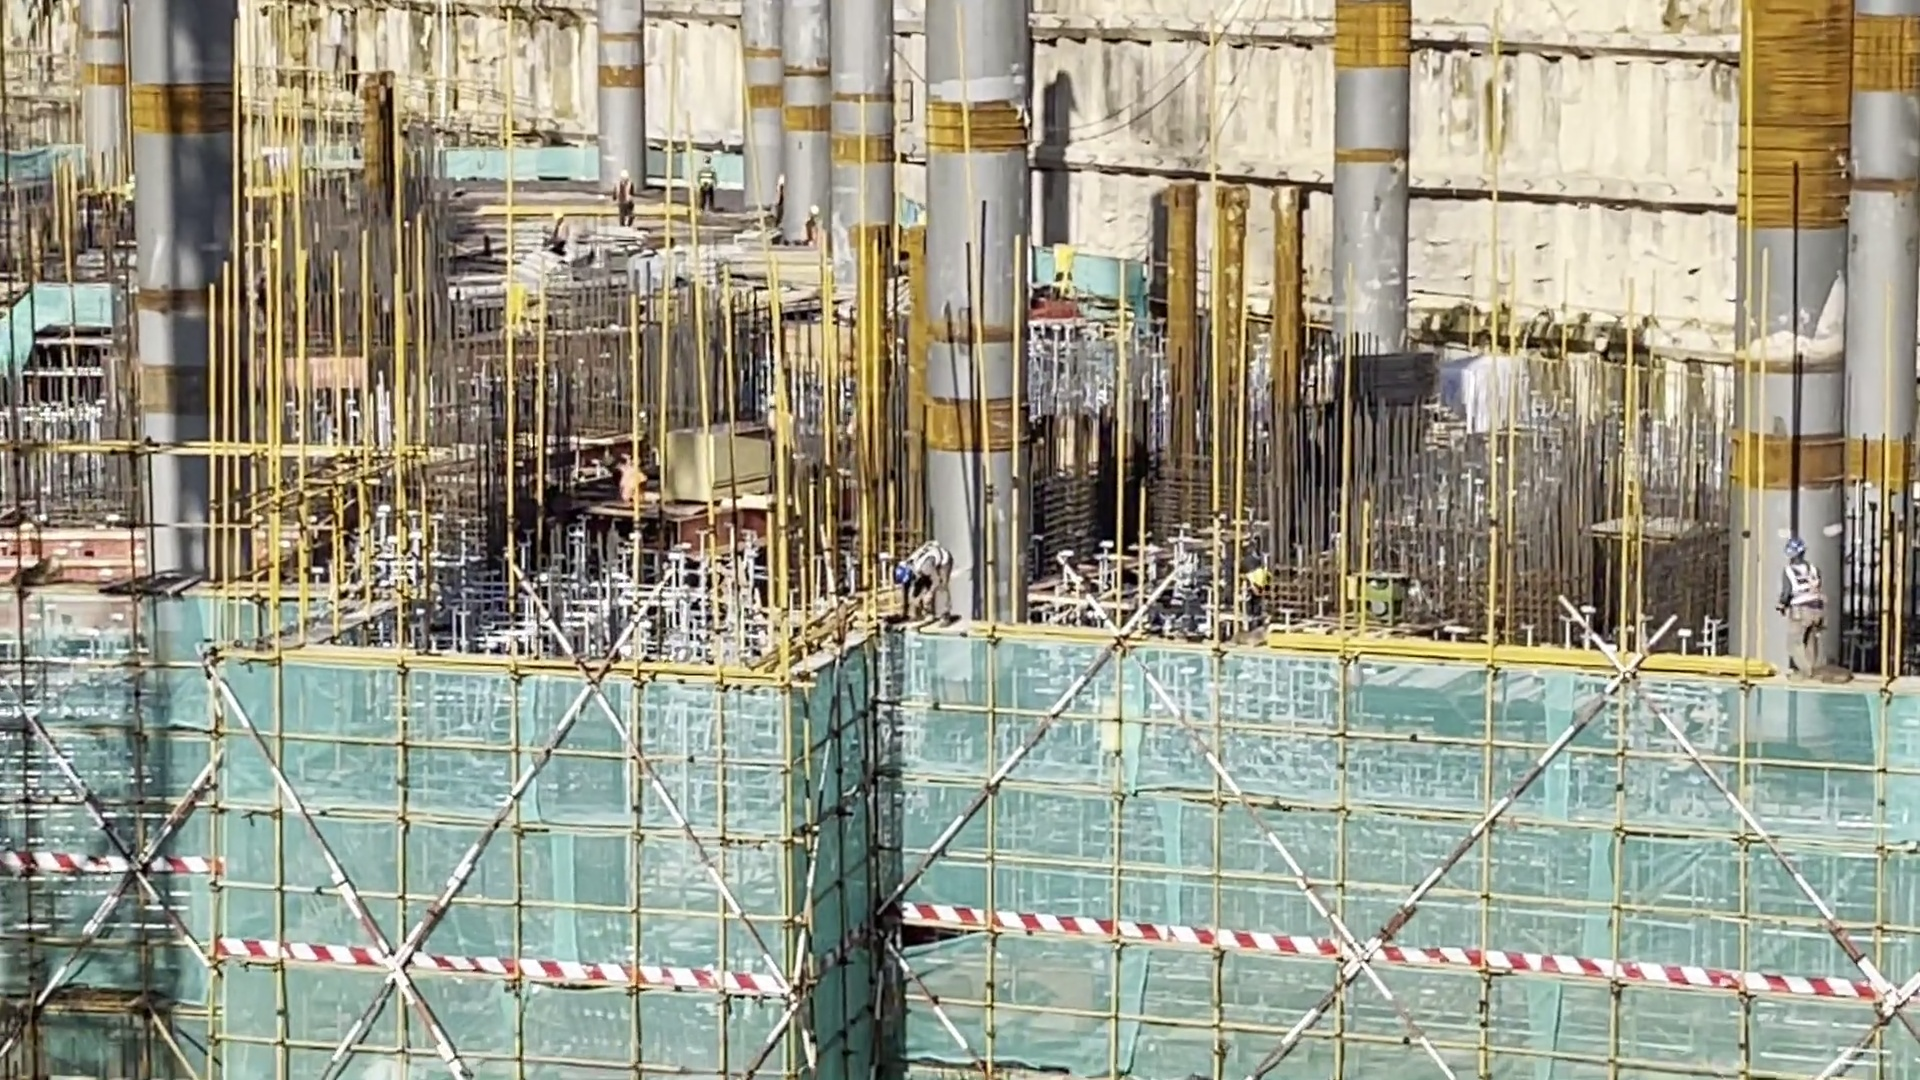board: (658, 421, 799, 511)
ebox: (511, 273, 539, 317), (1053, 244, 1079, 274)
helmet: (1791, 542, 1814, 571), (1248, 572, 1268, 596), (901, 562, 911, 589), (807, 199, 821, 217), (605, 456, 621, 469), (552, 209, 565, 221), (617, 170, 630, 181), (701, 156, 714, 166), (781, 173, 788, 188)
person: (1779, 538, 1829, 676), (903, 526, 964, 613), (1234, 560, 1274, 633), (605, 445, 646, 496), (611, 170, 643, 230), (696, 155, 726, 216), (543, 200, 569, 245), (772, 169, 786, 229), (808, 206, 826, 248)
vest: (1773, 564, 1833, 616), (902, 540, 956, 582), (1230, 585, 1265, 615), (617, 464, 645, 489), (617, 182, 637, 212), (810, 219, 824, 245), (699, 169, 713, 192), (551, 222, 565, 247), (775, 177, 787, 203)
